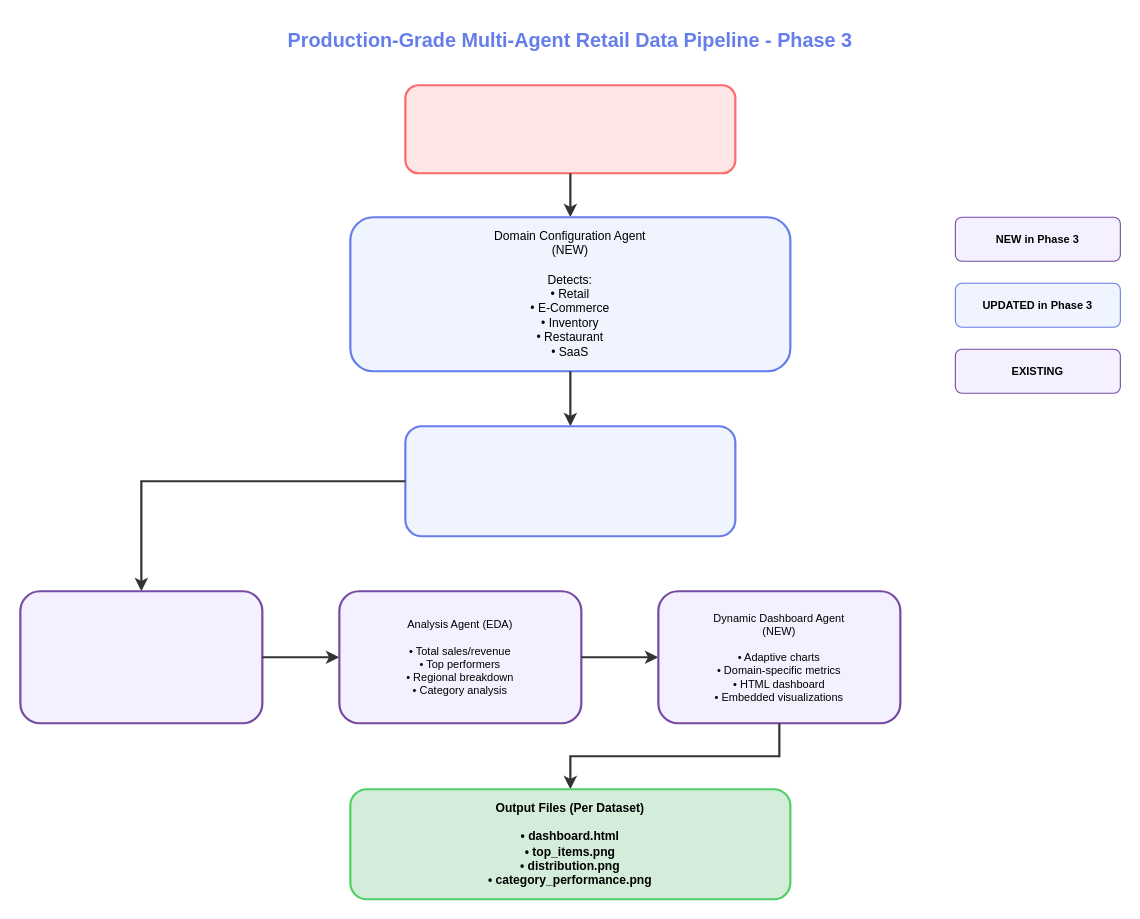
Image size: 1140x919. Some labels were removed from this diagram. Here are the shapes that lost their labels. From the top down, the centre of each, then its label:
[570,129]: Raw CSV Data (5 Different Domains)
[570,481]: Orchestrator Agent (UPDATED) Routes data flow based on domain configuration
[141,657]: Clean Agent • Missing values • Data types • Duplicates • Invalid rows
